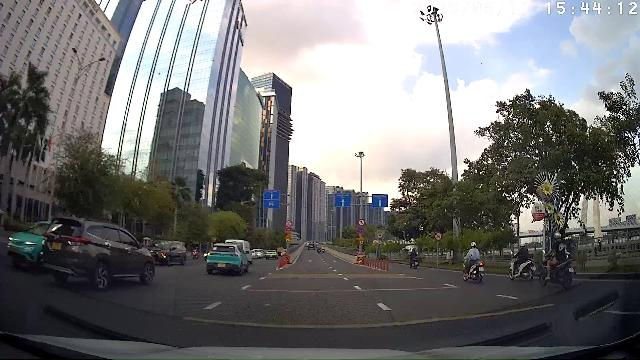103a-cam-oto: (434, 232, 442, 240)
